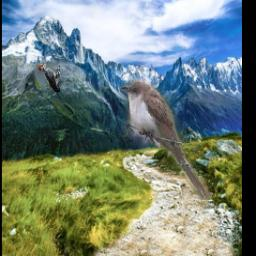Cuckoo: (121, 80, 212, 200)
Woodpecker: (38, 61, 60, 93)
